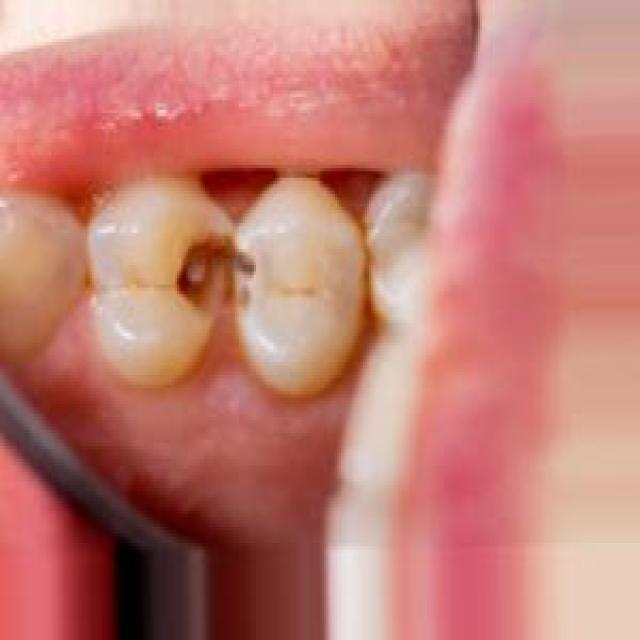caries: (164, 193, 270, 344)
